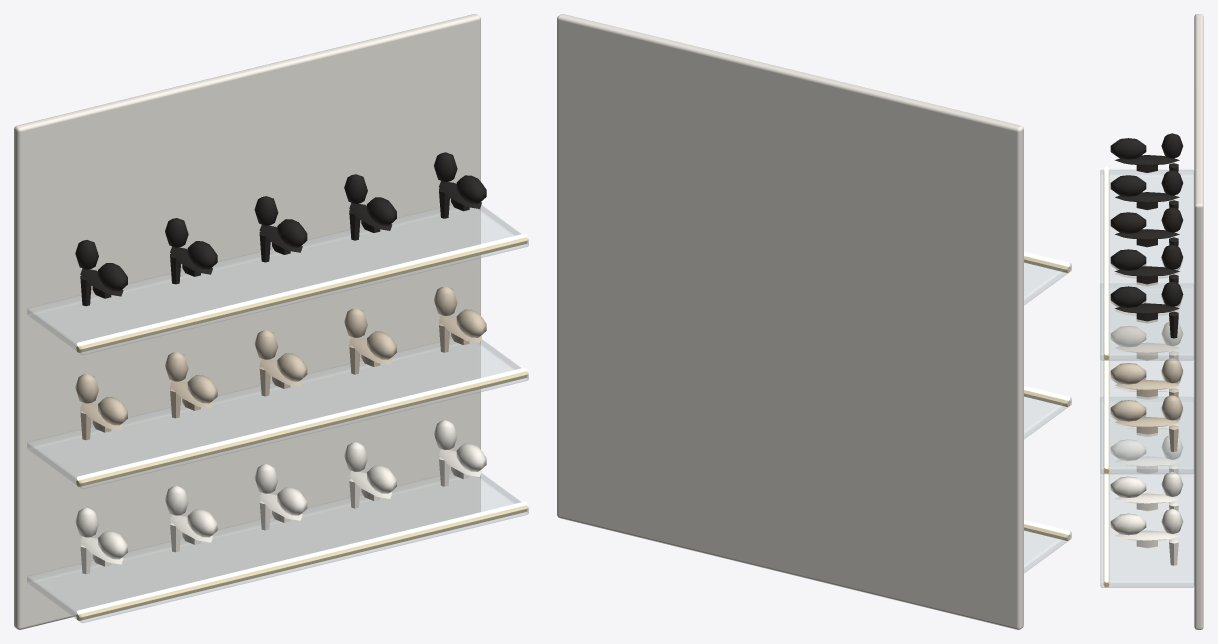
File: shoe_wall_shelf.glb
3 views of the same model, side by side, from view 1: azimuth 30°, elevation 25°; view 2: azimuth 150°, elevation 25°; view 3: azimuth 270°, elevation 25° (orthographic). The views are drawn at different scales.
Parts seen in each view (by area): view 1: shoe_wall_shelf; view 2: shoe_wall_shelf; view 3: shoe_wall_shelf.
Boxes of the visible parts, left/top/right/bottom form: shoe_wall_shelf: left=14, top=14, right=528, bottom=629; shoe_wall_shelf: left=557, top=14, right=1071, bottom=629; shoe_wall_shelf: left=1100, top=14, right=1203, bottom=629.
Bounding box in the file's own units: 1.45 × 1.5 × 0.33.
